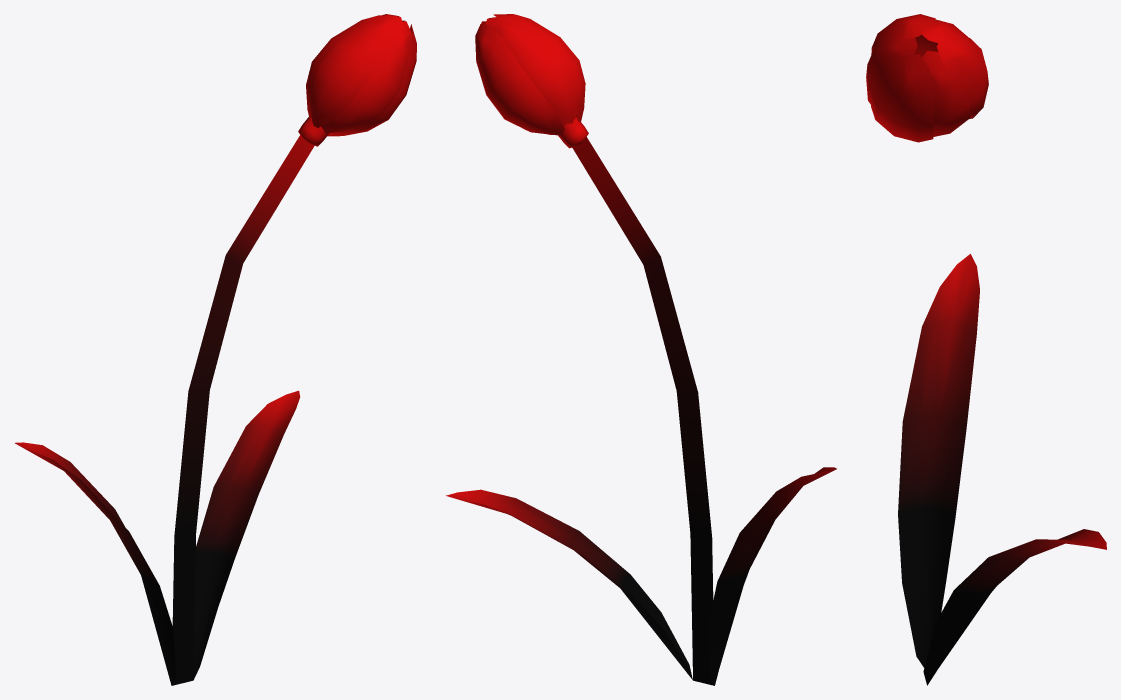
Rendered from SM_TulipBud_02_LOD0.fbx.
3 renders of one model, left to right at view 1: azimuth 30°, elevation 25°; view 2: azimuth 150°, elevation 25°; view 3: azimuth 270°, elevation 25°, orthographic. The views are drawn at different scales.
Parts seen in each view (by area): view 1: SM_TulipBud_02_LOD0; view 2: SM_TulipBud_02_LOD0; view 3: SM_TulipBud_02_LOD0.
Boxes of the visible parts, x1=… form: SM_TulipBud_02_LOD0: x1=15, y1=14, x2=416, y2=685; SM_TulipBud_02_LOD0: x1=446, y1=14, x2=836, y2=685; SM_TulipBud_02_LOD0: x1=866, y1=14, x2=1106, y2=685.
Bounding box in the file's own units: 90.21 × 39.48 × 141.
